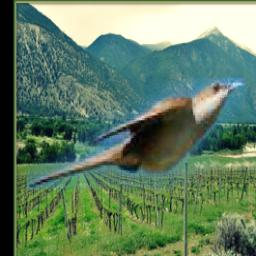Cuckoo: (27, 78, 245, 190)
